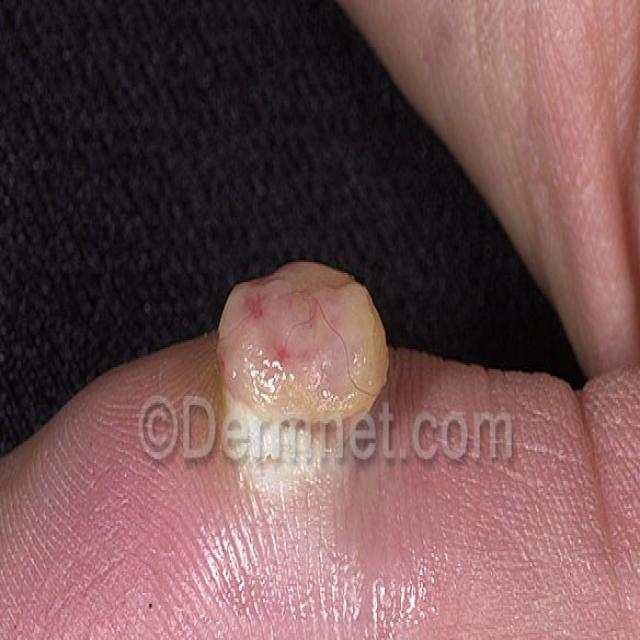Vascular Tumors: (175, 251, 413, 463)
